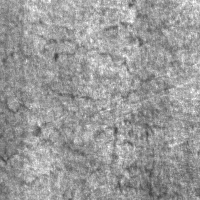crazing: (33, 16, 173, 65), (51, 46, 173, 101)
